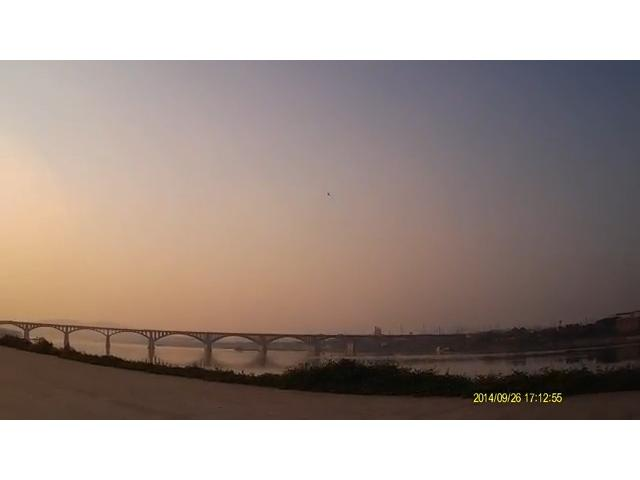Anti-Drone: (320, 185, 332, 199)
